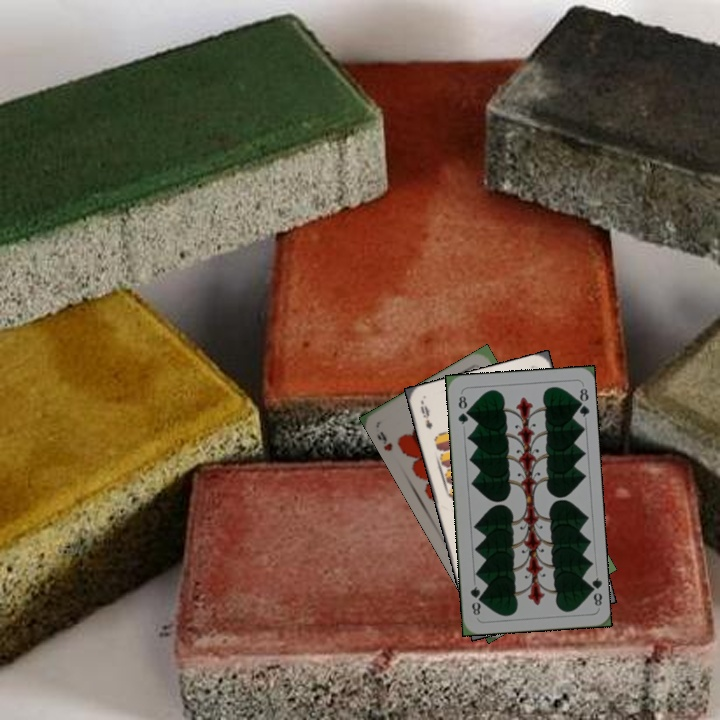E9: (416, 399, 435, 432)
G8: (584, 573, 605, 608), (454, 392, 471, 427)
H9: (372, 427, 395, 454)
